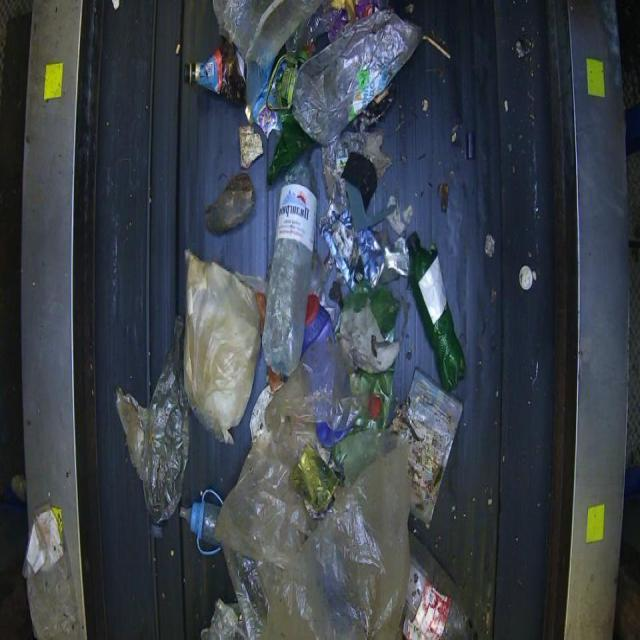bottles: (260, 155, 318, 379)
cups: (188, 488, 224, 555)
other-trash: (117, 0, 473, 638)
